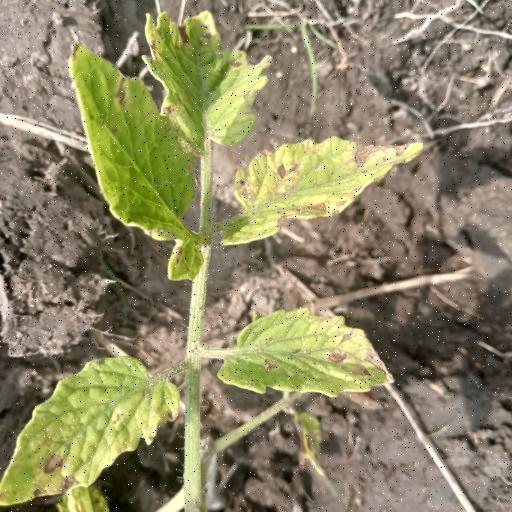Tomato_Brown_Spots: (63, 40, 212, 250), (0, 347, 185, 509), (217, 129, 428, 250), (142, 4, 276, 144), (219, 306, 393, 402)
